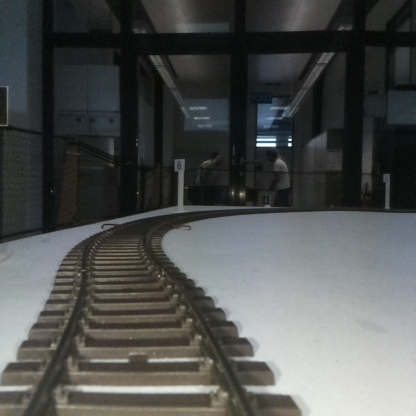white-info-6: (174, 159, 185, 210)
